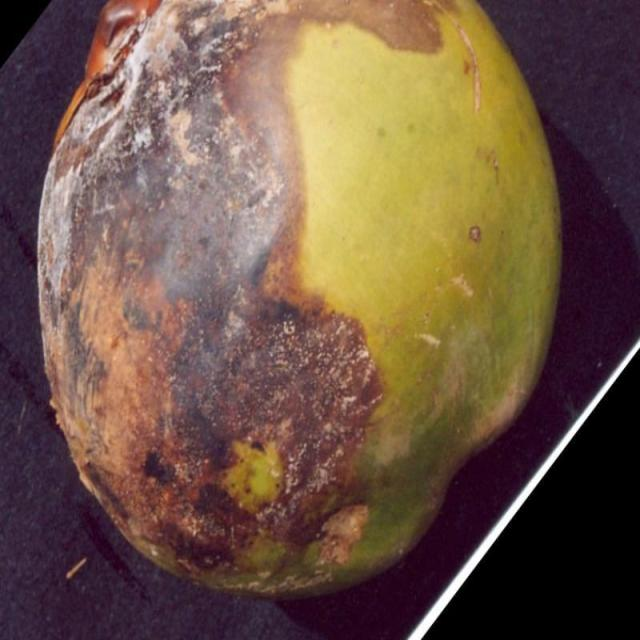damaged: (38, 0, 561, 594)
